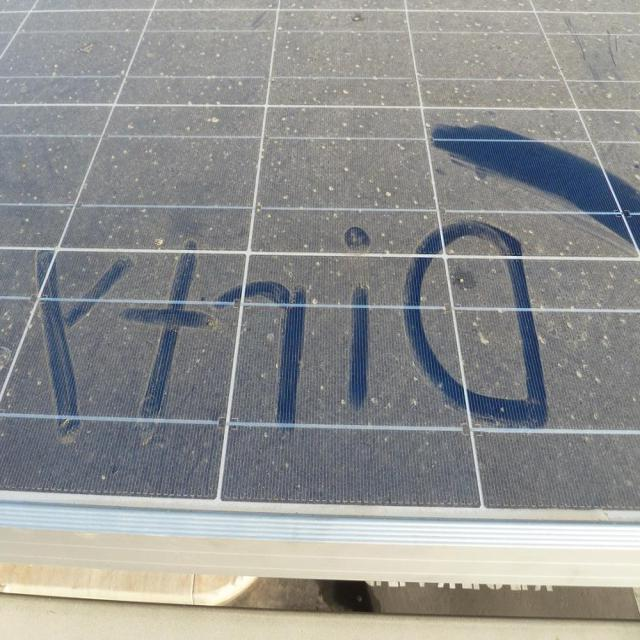soiled: (0, 4, 638, 505)
